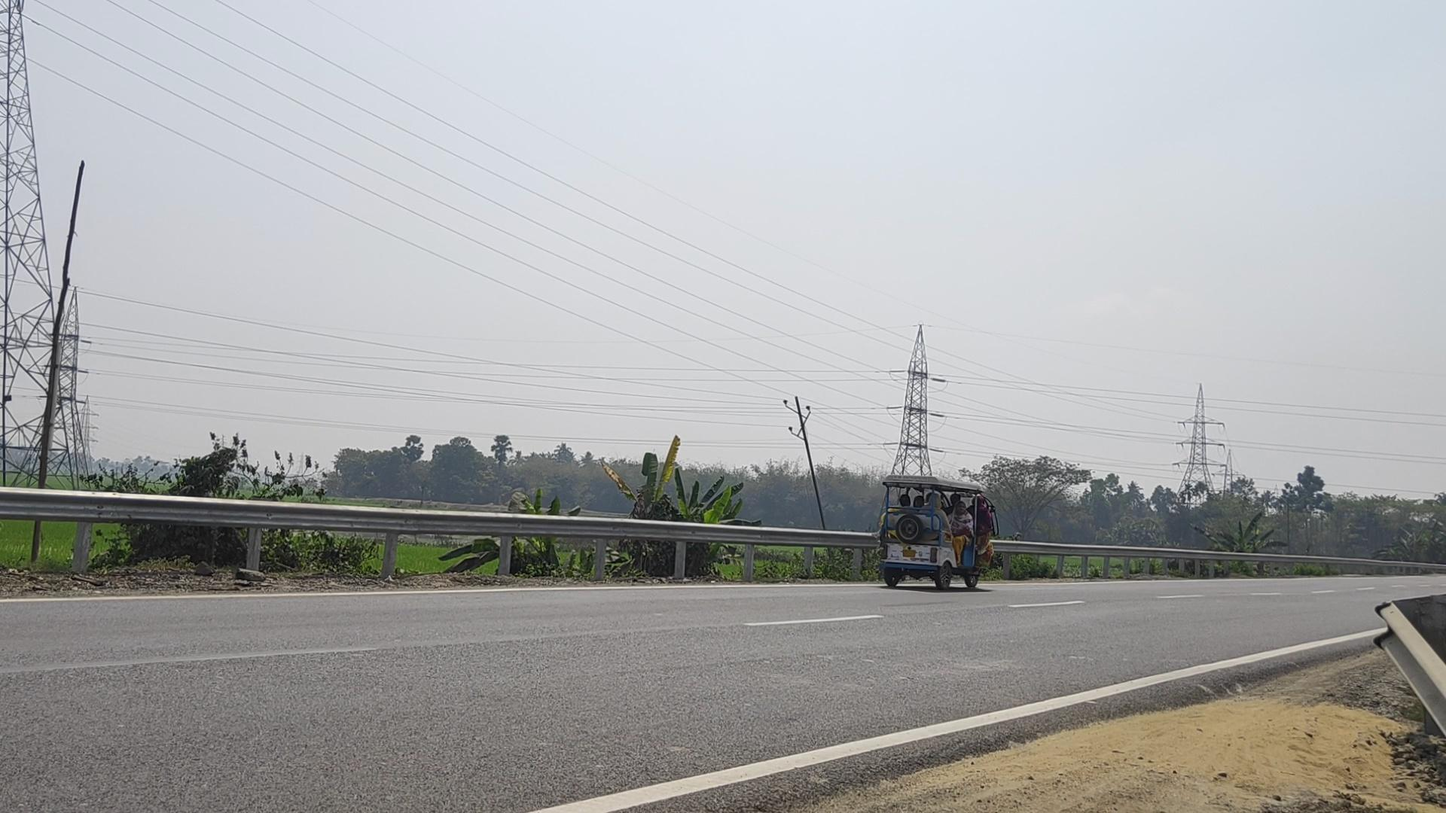Auto: (877, 475, 999, 591)
